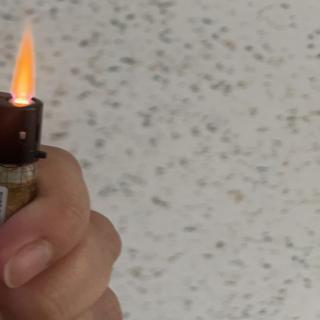fire: (11, 32, 39, 103)
